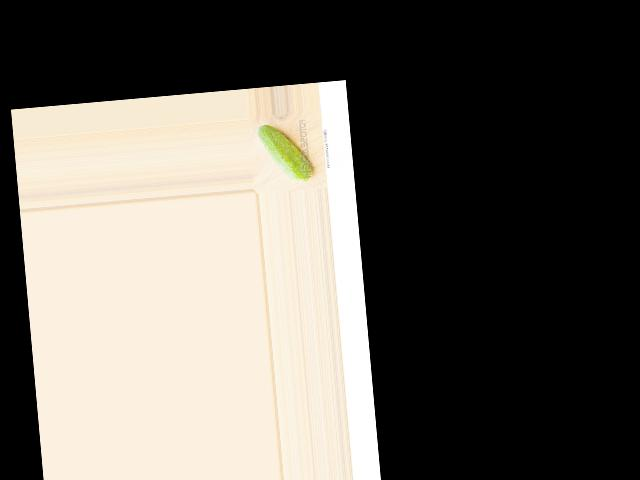cucumber: (256, 121, 313, 186)
